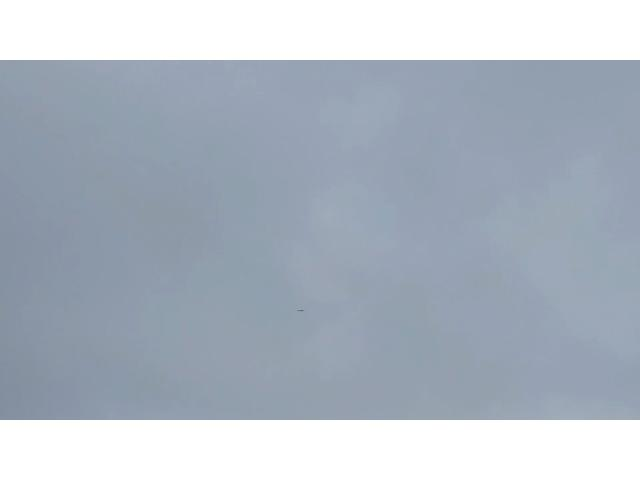Anti-Drone: (296, 308, 306, 314)
